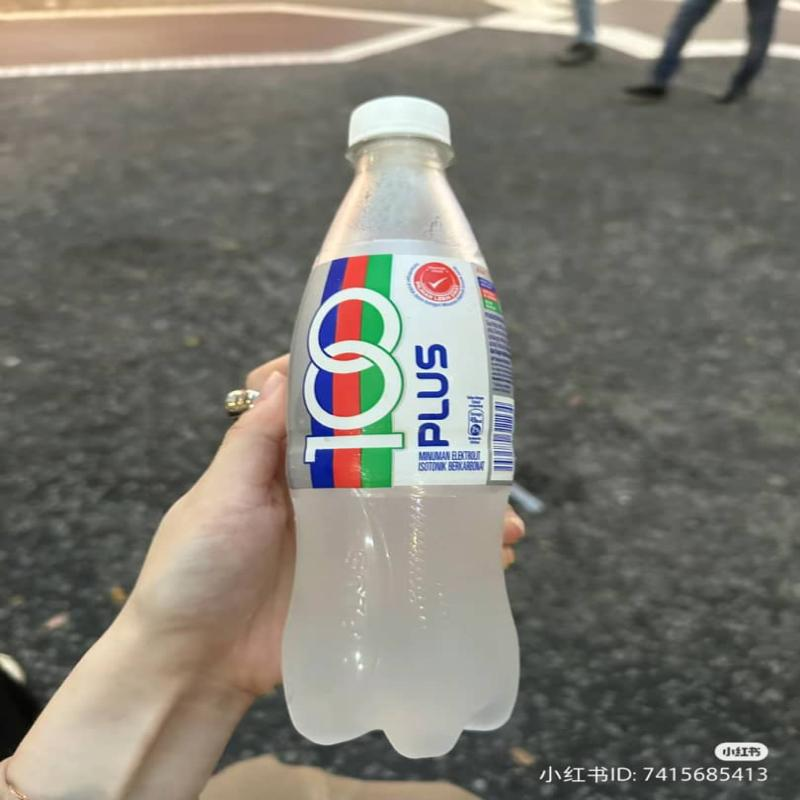botella: (284, 97, 521, 760)
